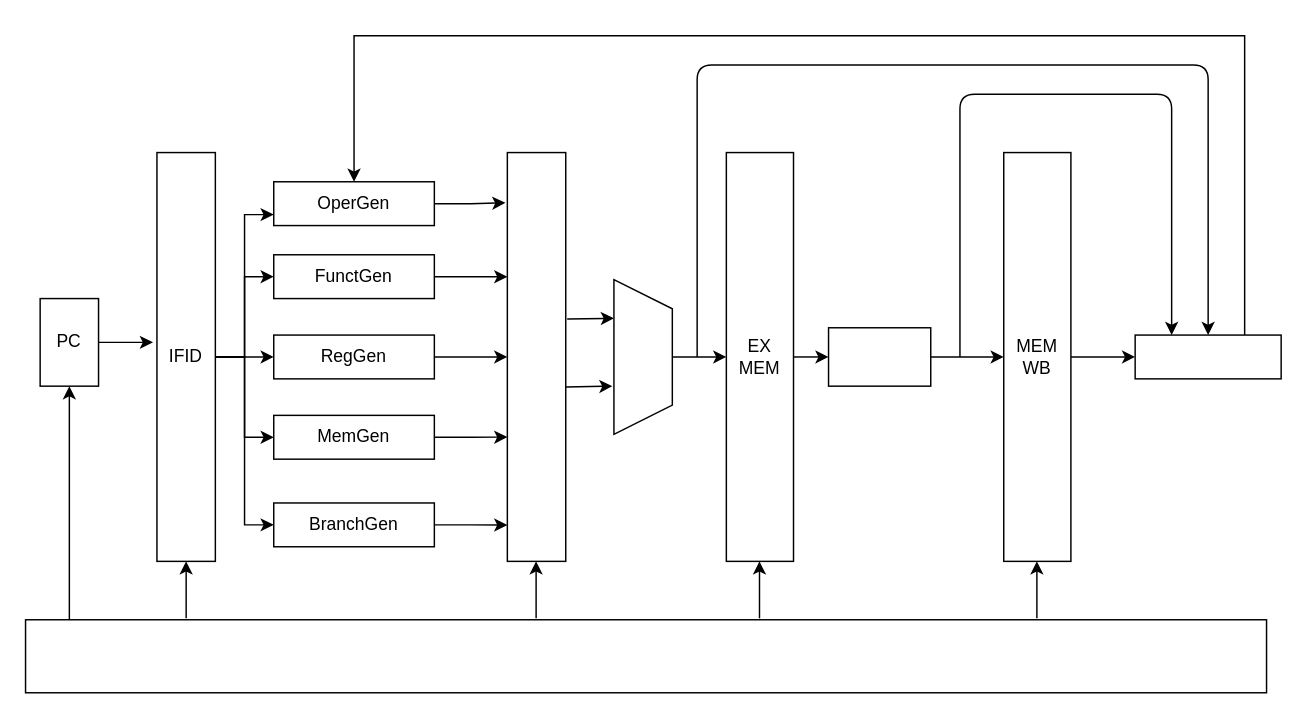
Some shapes in this 1307 by 718 pixel diagram are drawn without their labels. The centre of each missing label's shape, as x and y in pixels:
ALU: the point at 642,356
IDEX: the point at 536,356
MEM: the point at 879,356
PipelineController: the point at 645,655
RegFile: the point at 1207,356
